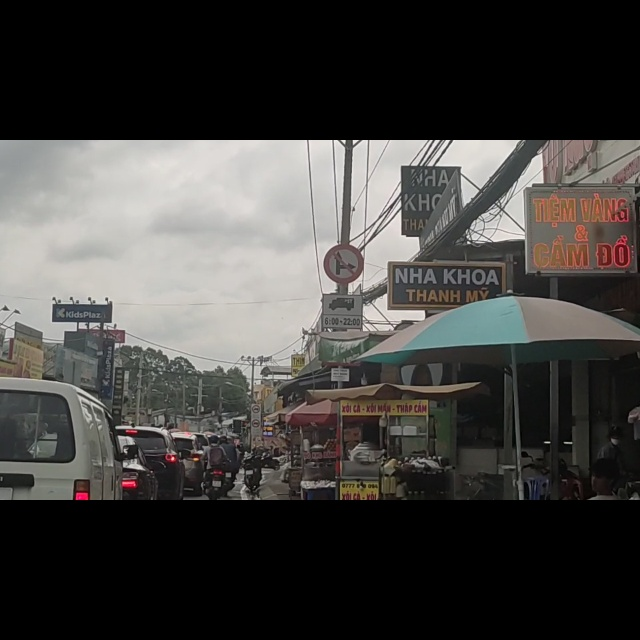bien_cam: (324, 186, 363, 255), (324, 274, 361, 333)
